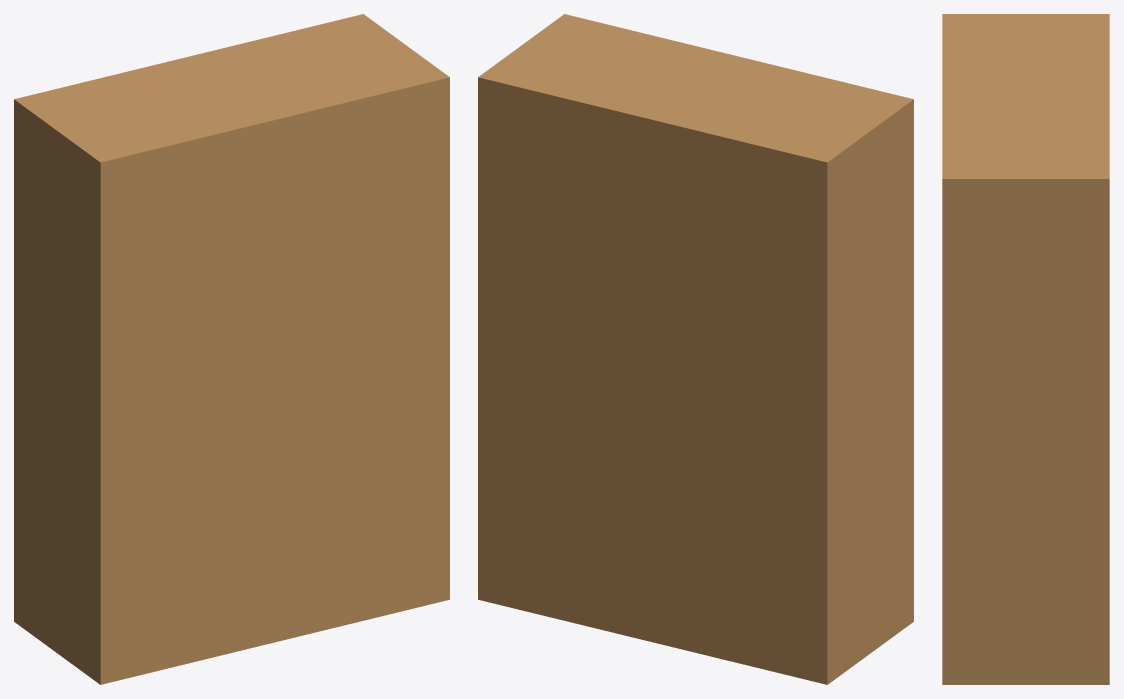
Rendered from bookshelf.glb.
3 renders of one model, left to right at view 1: azimuth 30°, elevation 25°; view 2: azimuth 150°, elevation 25°; view 3: azimuth 270°, elevation 25°, orthographic. The views are drawn at different scales.
Visible parts, largest first — view 1: bookshelf; view 2: bookshelf; view 3: bookshelf.
Boxes of the visible parts, x1=… form: bookshelf: x1=14, y1=14, x2=449, y2=684; bookshelf: x1=478, y1=14, x2=913, y2=684; bookshelf: x1=942, y1=14, x2=1109, y2=684.
Size of the model in its own units: 28 by 40 by 12.
